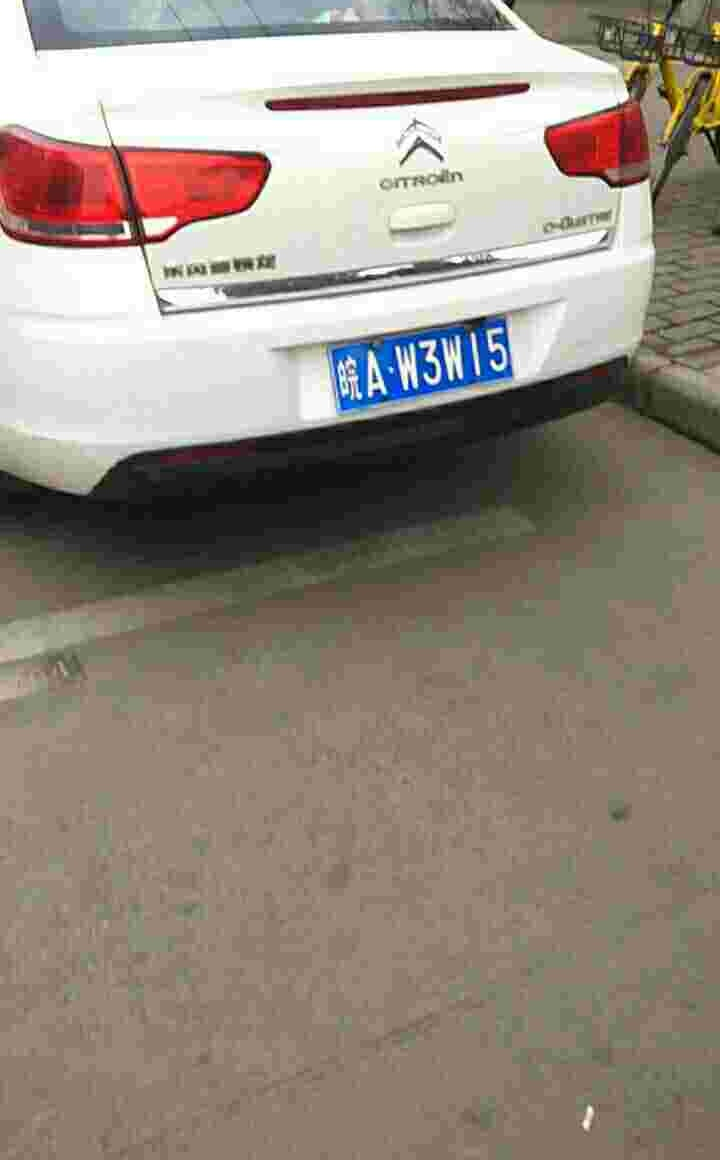license_plate: (322, 320, 522, 419)
